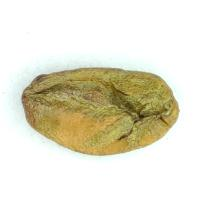NG: (36, 71, 163, 148)
